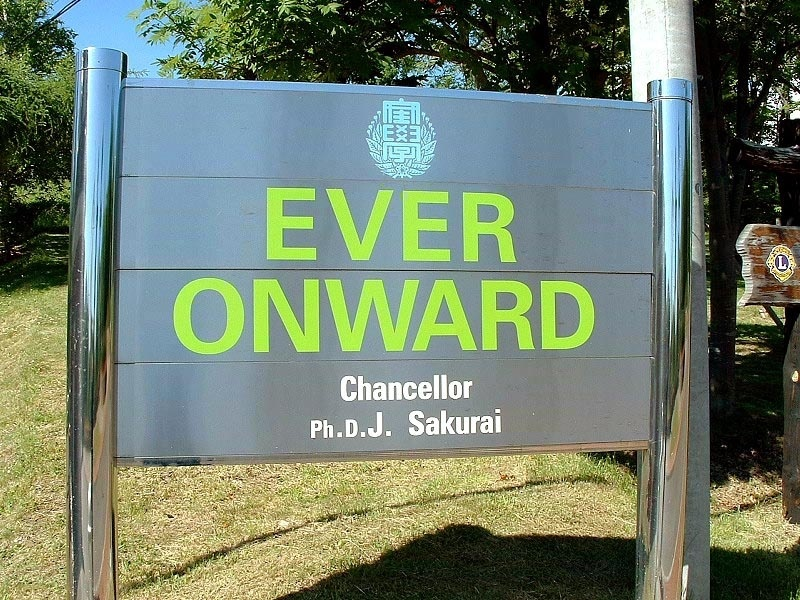text: (177, 277, 192, 356), (193, 277, 208, 356), (209, 277, 224, 356), (225, 277, 240, 356), (241, 277, 256, 356), (257, 277, 272, 356), (273, 277, 288, 356), (289, 277, 304, 356), (305, 277, 320, 356), (321, 277, 336, 356), (337, 277, 352, 356), (353, 277, 368, 356), (369, 277, 384, 356), (385, 277, 400, 356), (401, 277, 416, 356), (417, 277, 432, 356), (433, 277, 448, 356), (449, 277, 464, 356), (465, 277, 480, 356), (481, 277, 496, 356), (497, 277, 512, 356), (513, 277, 528, 356), (529, 277, 544, 356), (545, 277, 560, 356), (561, 277, 576, 356), (577, 277, 592, 356), (273, 187, 288, 265), (289, 187, 304, 265), (305, 187, 320, 265), (321, 187, 336, 265), (337, 187, 352, 265), (353, 187, 368, 265), (369, 187, 384, 265), (385, 187, 400, 265), (401, 187, 416, 265), (417, 187, 432, 265), (433, 187, 448, 265), (449, 187, 464, 265), (465, 187, 480, 265), (481, 187, 496, 265), (497, 187, 512, 265), (265, 187, 272, 265), (513, 187, 520, 265), (353, 373, 368, 404), (369, 373, 384, 404), (385, 373, 400, 404), (401, 373, 416, 404), (417, 373, 432, 404), (433, 373, 448, 404), (449, 373, 464, 404), (417, 407, 432, 438), (433, 407, 448, 438), (449, 407, 464, 438), (465, 407, 480, 438), (481, 407, 496, 438), (321, 412, 336, 440), (337, 412, 352, 440), (353, 412, 368, 440), (369, 412, 384, 440), (340, 373, 352, 404), (172, 277, 176, 356), (465, 373, 475, 404), (385, 412, 395, 440), (311, 412, 320, 440), (408, 407, 416, 438), (385, 123, 397, 143), (593, 277, 596, 356), (497, 407, 502, 438), (401, 125, 409, 144), (409, 125, 416, 144), (417, 125, 423, 144), (777, 256, 784, 272), (396, 125, 400, 144), (785, 256, 789, 272), (383, 123, 384, 143)
